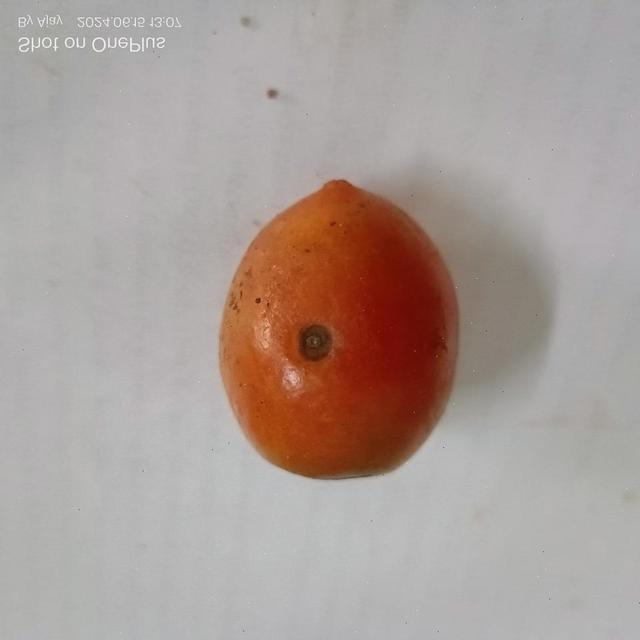Bacterial Spot Fruit: (198, 215, 223, 242)
